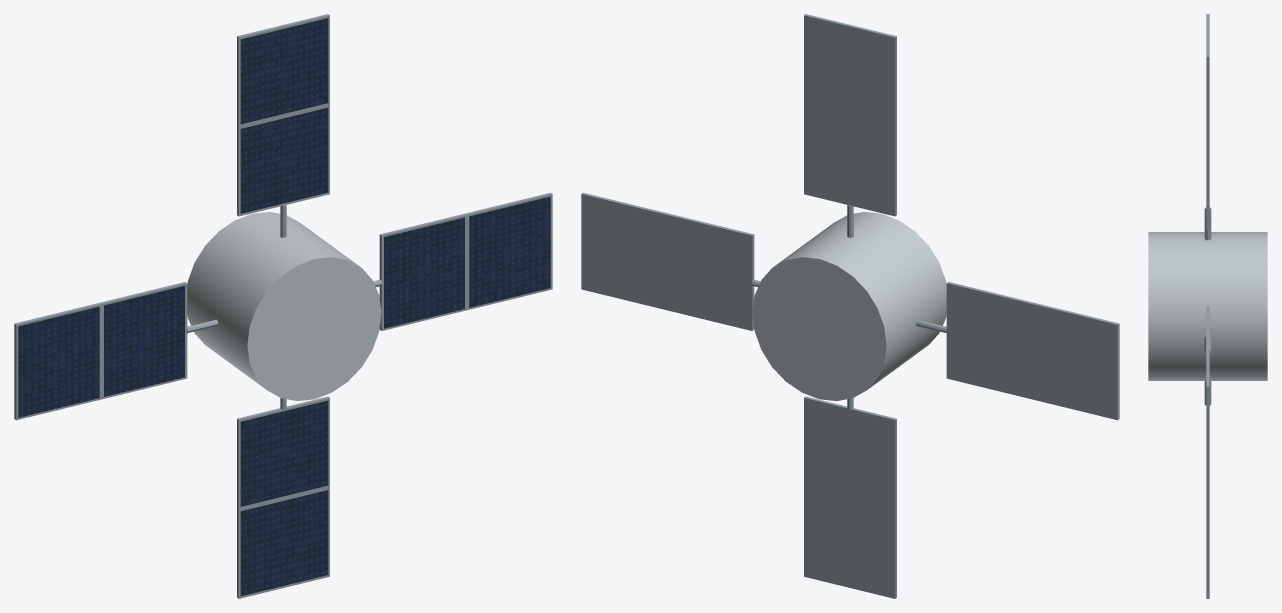
File: ref-so-m-8510.glb
3 views of the same model, side by side, from view 1: azimuth 30°, elevation 25°; view 2: azimuth 150°, elevation 25°; view 3: azimuth 270°, elevation 25° (orthographic). The views are drawn at different scales.
Parts seen in each view (by area): view 1: Photovoltaic laminates (×8), Spacecraft body, Array frame (×8); view 2: Array frame (×8), Spacecraft body; view 3: Spacecraft body, Array frame (×4), Solar array drive.
Part boxes in pixels (left/top/right/bottom): Photovoltaic laminates (×8): left=18, top=18, right=550, bottom=596; Spacecraft body: left=187, top=212, right=381, bottom=400; Array frame (×8): left=14, top=14, right=552, bottom=598; Array frame (×8): left=581, top=14, right=1119, bottom=598; Spacecraft body: left=752, top=212, right=946, bottom=400; Spacecraft body: left=1148, top=232, right=1267, bottom=380; Array frame (×4): left=1206, top=14, right=1209, bottom=598; Solar array drive: left=1204, top=207, right=1211, bottom=240.
Size of the model in its own units: 10 by 10 by 2.
Materials: 3 (1 with a texture image).
